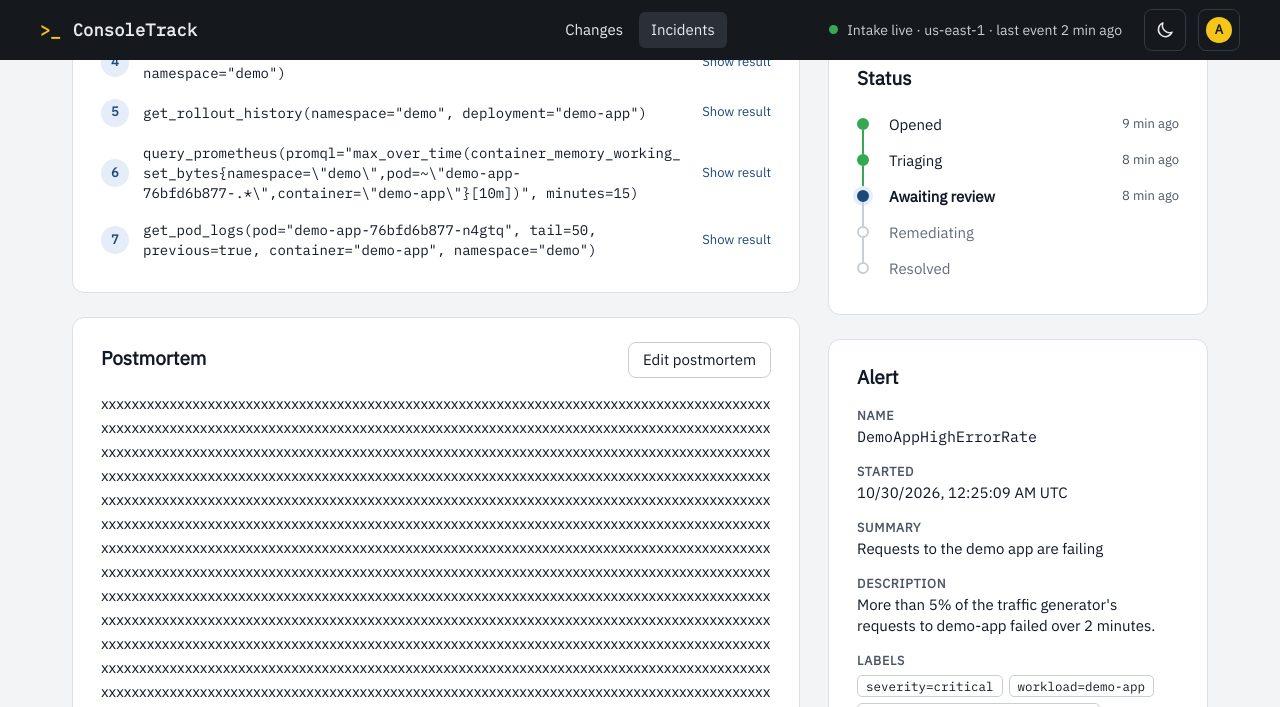
Test: postmortem editor › won't save past the length limit
(page scrolled)
Click the button "Edit postmortem": [700, 360] box [628,342,771,378]
(page scrolled)
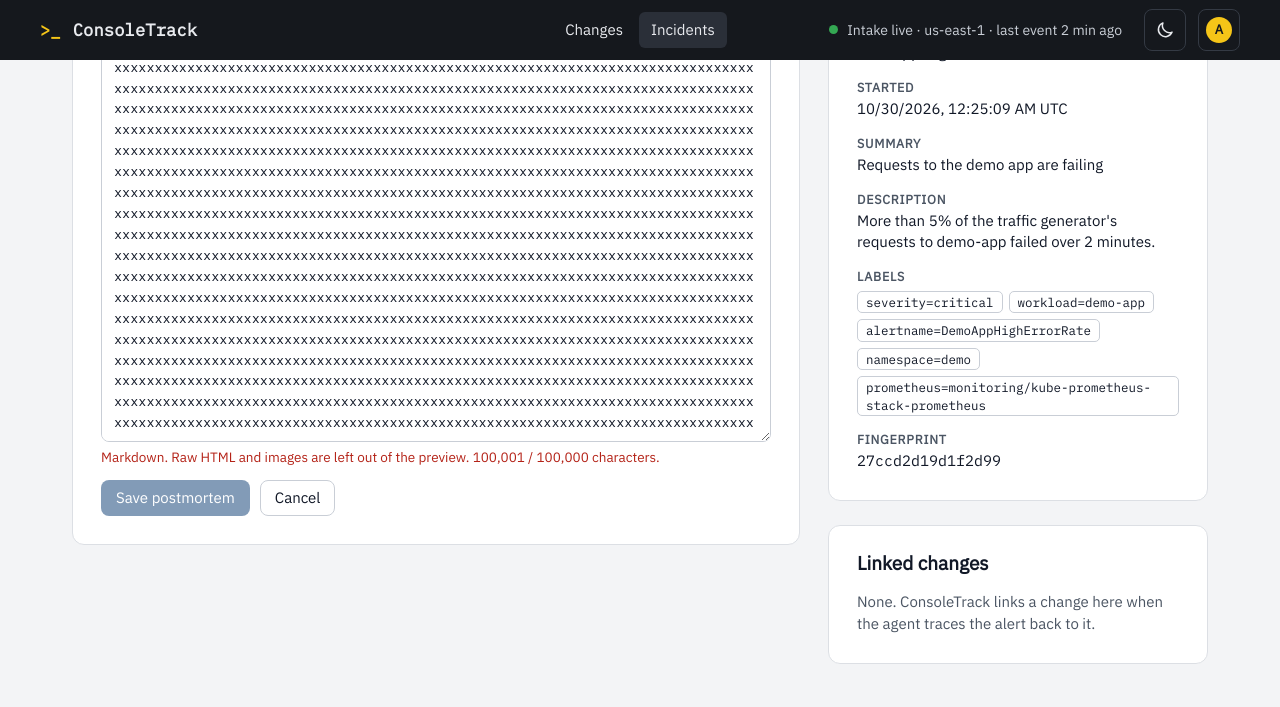
expect the button "Save postmortem" is disabled: met, box [101,480,250,516]
